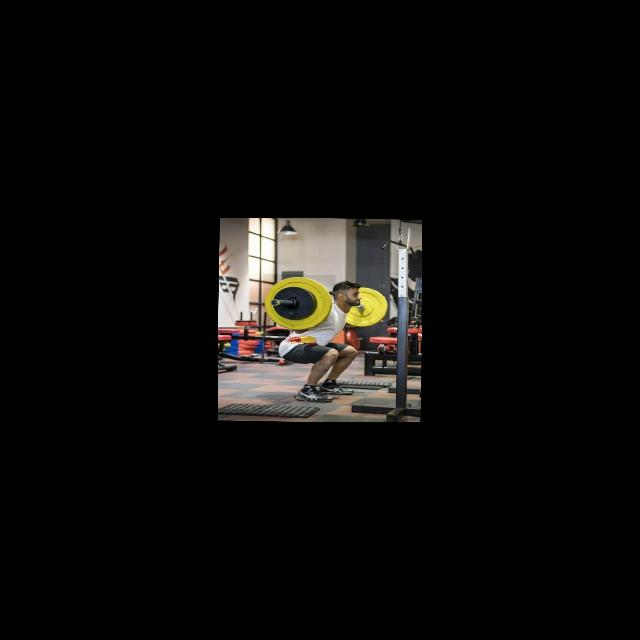barbell: (262, 274, 335, 331)
